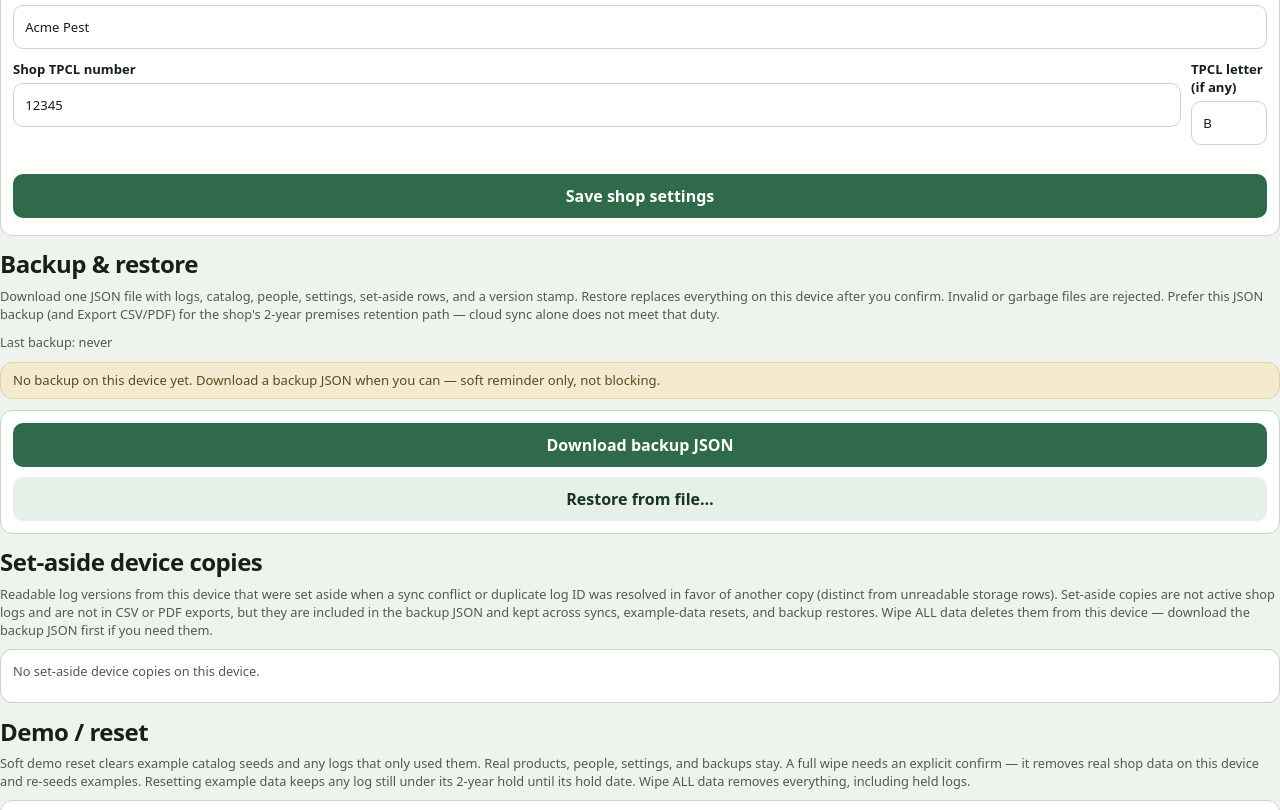
Test case: Settings backup: download (local) › downloads every section with the version stamp and local provenance, then stamps last backup
(page scrolled)
Click the button "Download backup JSON". click: (640, 445)
box: top-left (13, 423), bottom-right (1267, 467)
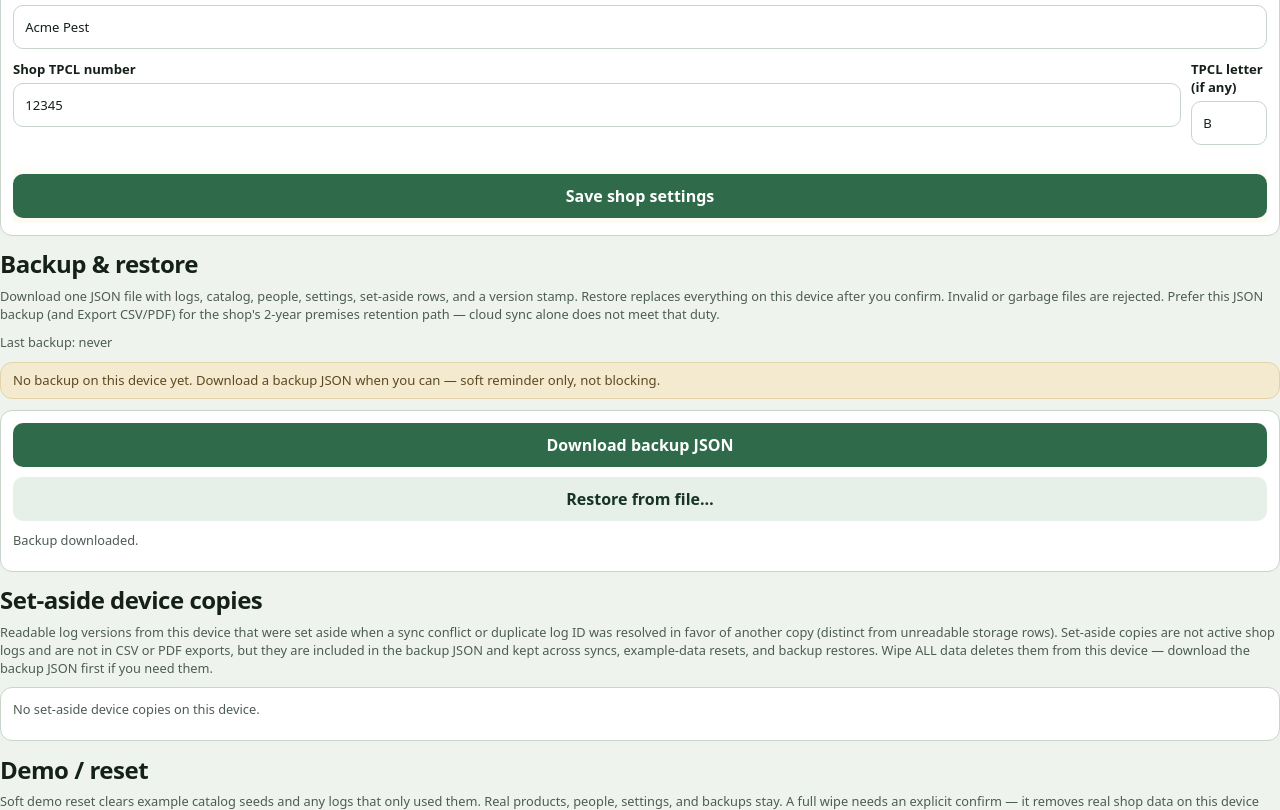
Now the text "Backup downloaded." is shown, box top-left (13, 531), bottom-right (138, 549)
